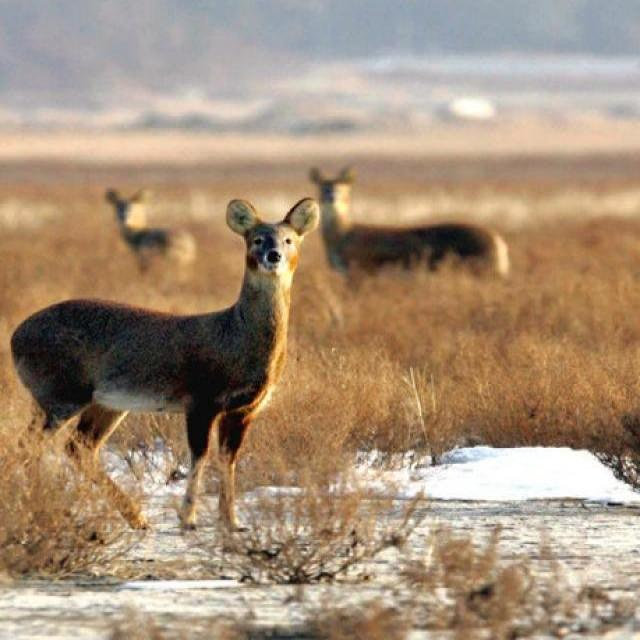deer: (8, 203, 330, 526), (302, 159, 524, 289), (80, 184, 204, 284)
